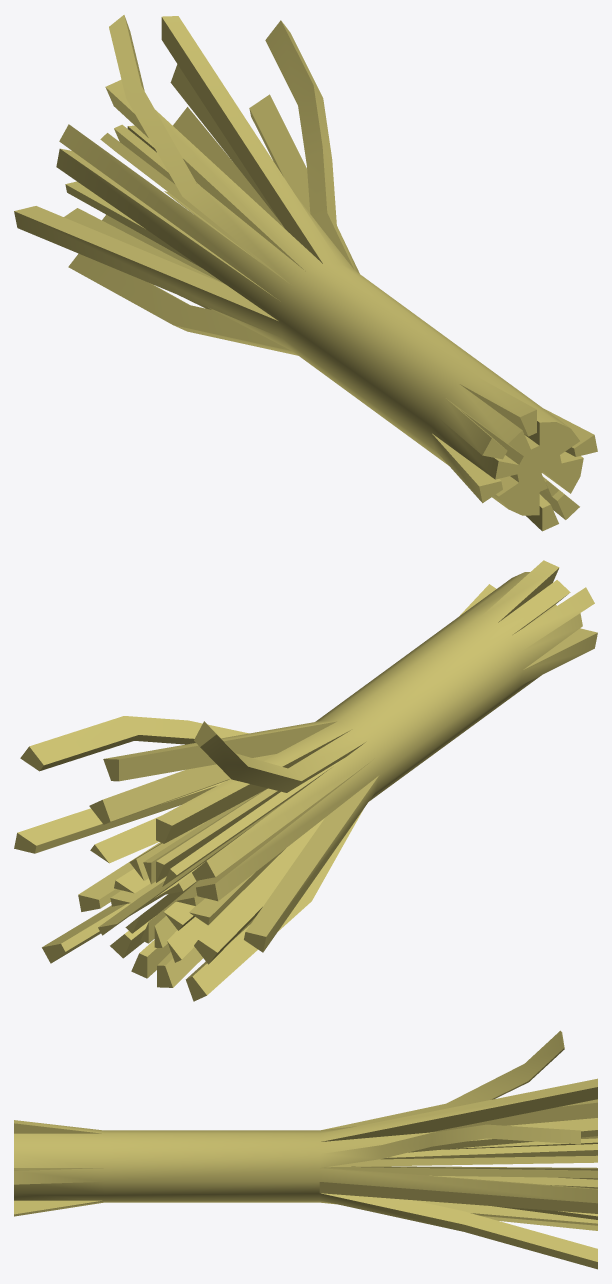
File: cheese_string.glb
The picture shows the model from 3 angles, top to bottom: view 1: azimuth 30°, elevation 25°; view 2: azimuth 150°, elevation 25°; view 3: azimuth 270°, elevation 25°; orthographic projection. The views are drawn at different scales.
Visible parts, largest first — view 1: 0.040; view 2: 0.040; view 3: 0.040.
Boxes of the visible parts, box(x1,y1,x2,y2) form: 0.040: box(14, 15, 597, 531); 0.040: box(14, 560, 597, 1001); 0.040: box(14, 1030, 597, 1269).
Size of the model in its own units: 0.1215 by 0.1187 by 0.3233.
